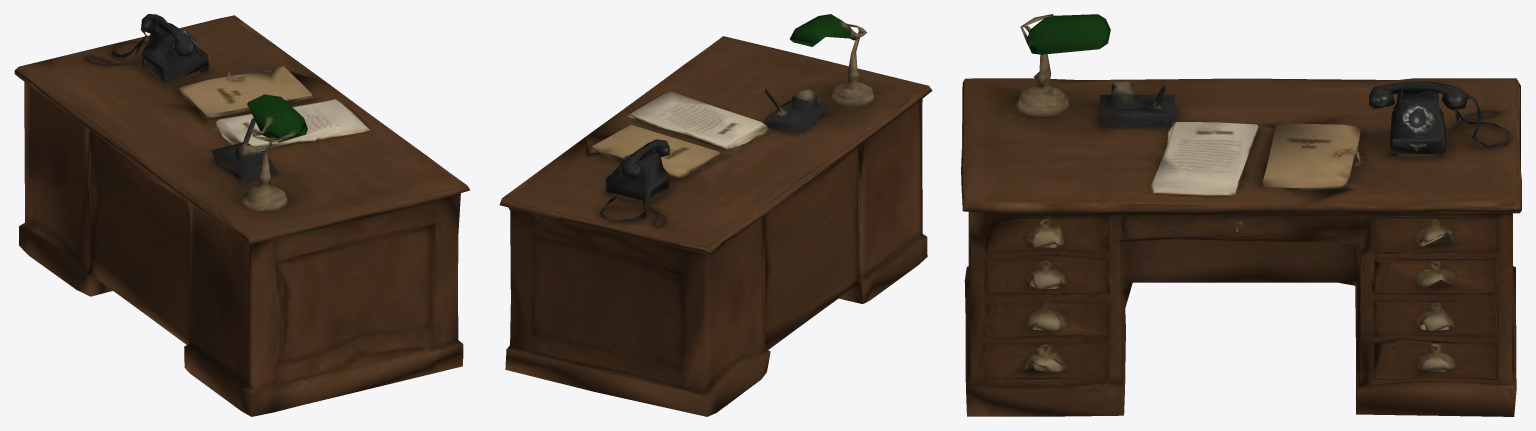
File: prop_desk.glb
3 views of the same model, side by side, from view 1: azimuth 30°, elevation 25°; view 2: azimuth 150°, elevation 25°; view 3: azimuth 270°, elevation 25° (orthographic). The views are drawn at different scales.
Visible parts, largest first — view 1: tripo_node_591355fe-f453-410e-96f9-6910af895b99; view 2: tripo_node_591355fe-f453-410e-96f9-6910af895b99; view 3: tripo_node_591355fe-f453-410e-96f9-6910af895b99.
Part boxes in pixels (x1,y1,x2,y2): tripo_node_591355fe-f453-410e-96f9-6910af895b99: [14, 14, 469, 416]; tripo_node_591355fe-f453-410e-96f9-6910af895b99: [499, 14, 932, 416]; tripo_node_591355fe-f453-410e-96f9-6910af895b99: [961, 14, 1521, 416].
Bounding box in the file's own units: 0.5442 × 0.6208 × 0.999.
Materials: 1 (1 with a texture image).
